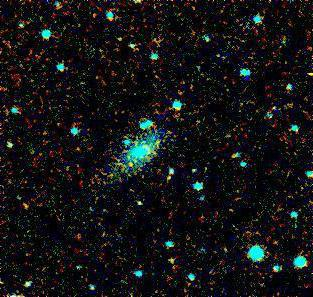star: (10, 190, 40, 220)
